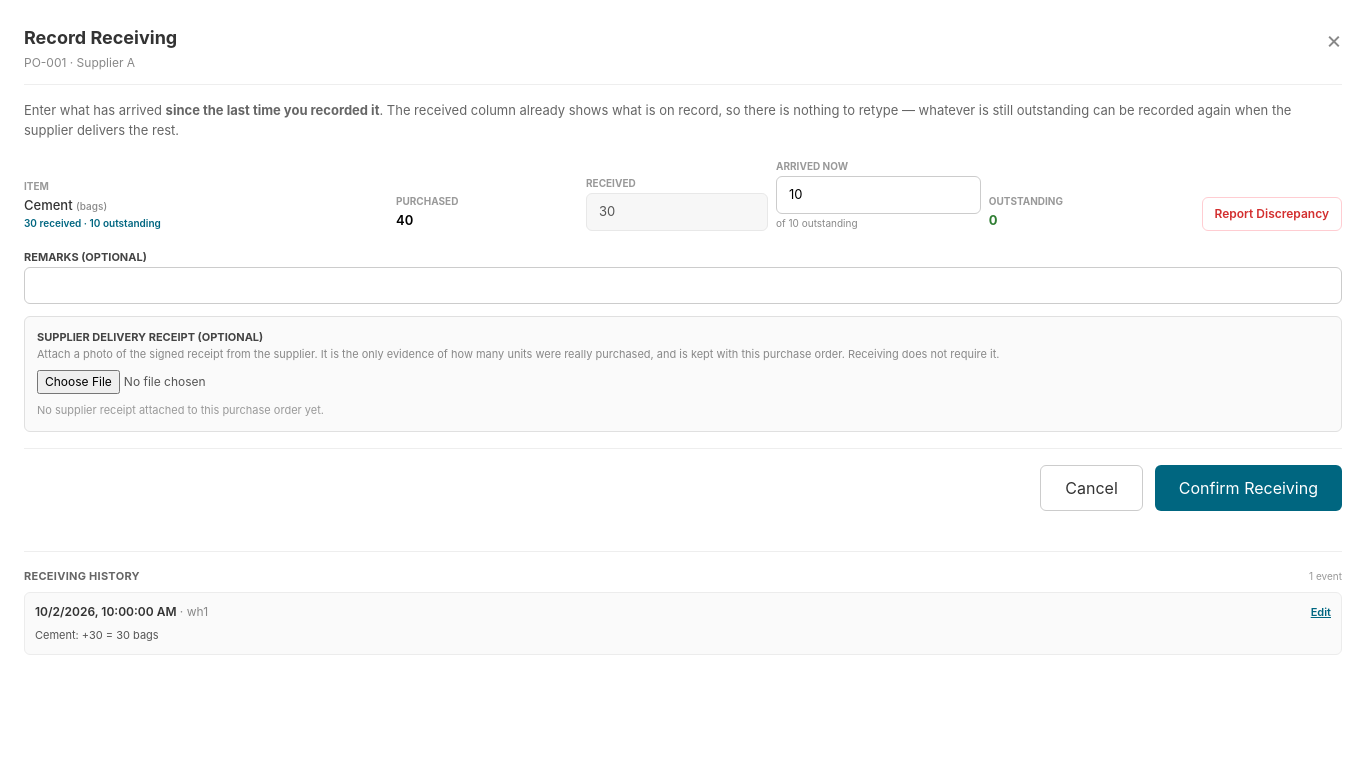
it: correcting the latest event › refuses to save a total below what was already received
Expected: the heading "Record Receiving" is shown, [24,24,177,52]
Click the button "Edit" at x=1321, y=612, box [1311,604,1331,620]
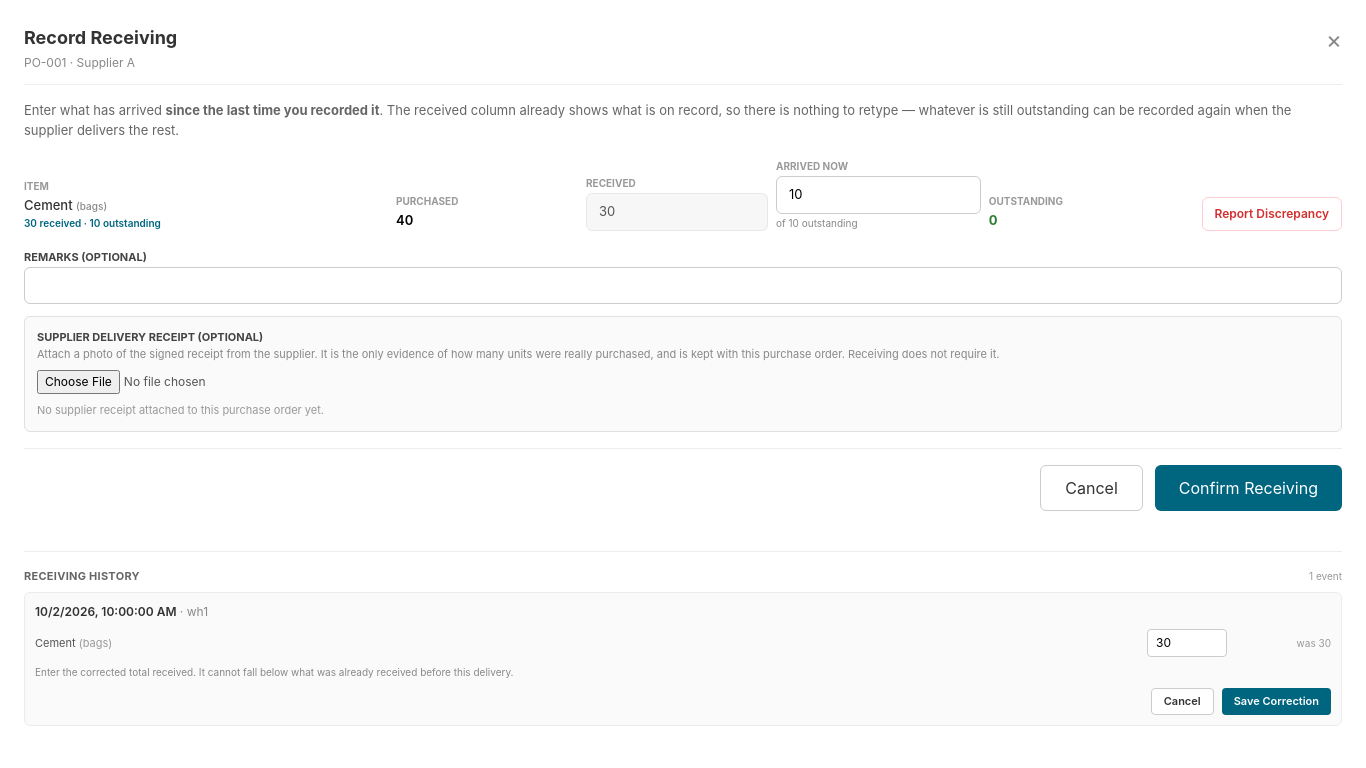
Replace the text in the number field named "Corrected received total for Cement" with "0" at x=1187, y=643, box [1147,629,1227,657]
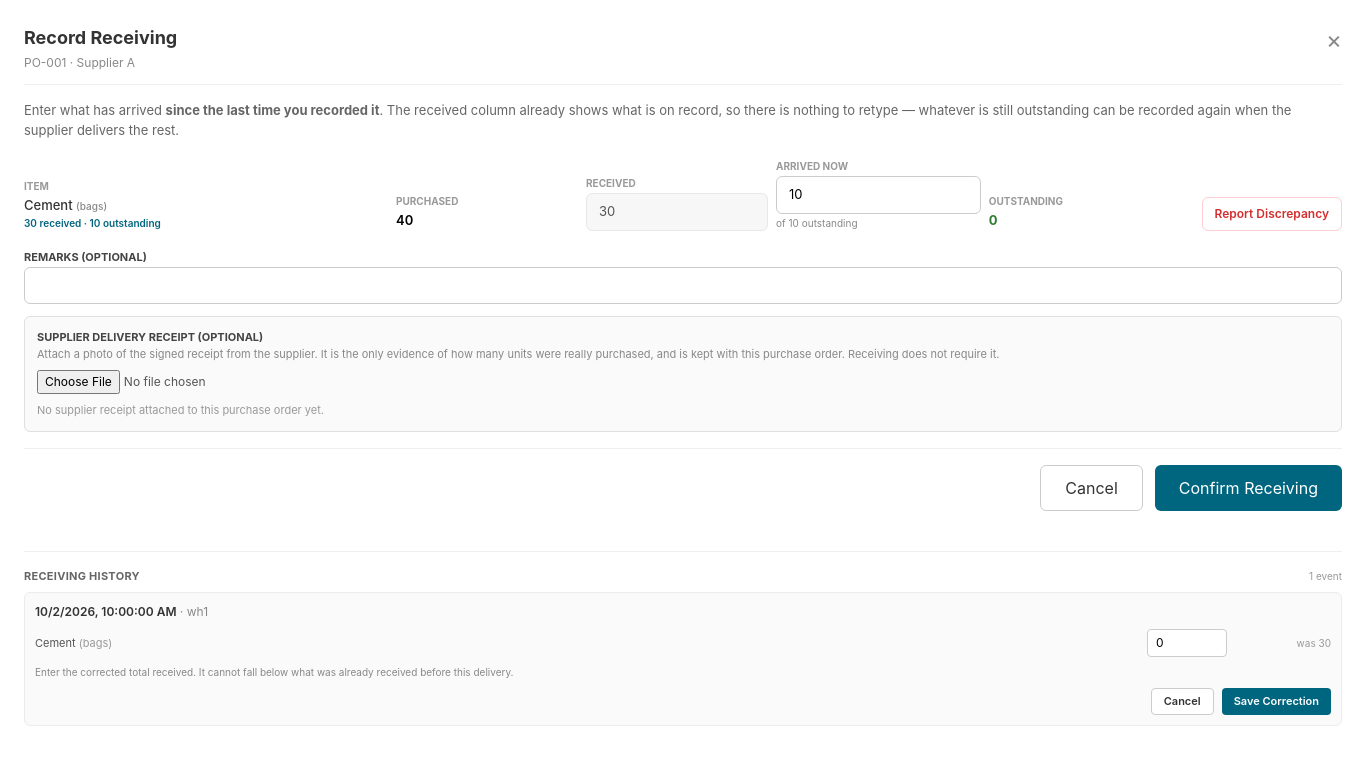
Click the button "Save Correction" at x=1276, y=701, box [1222,688,1331,714]
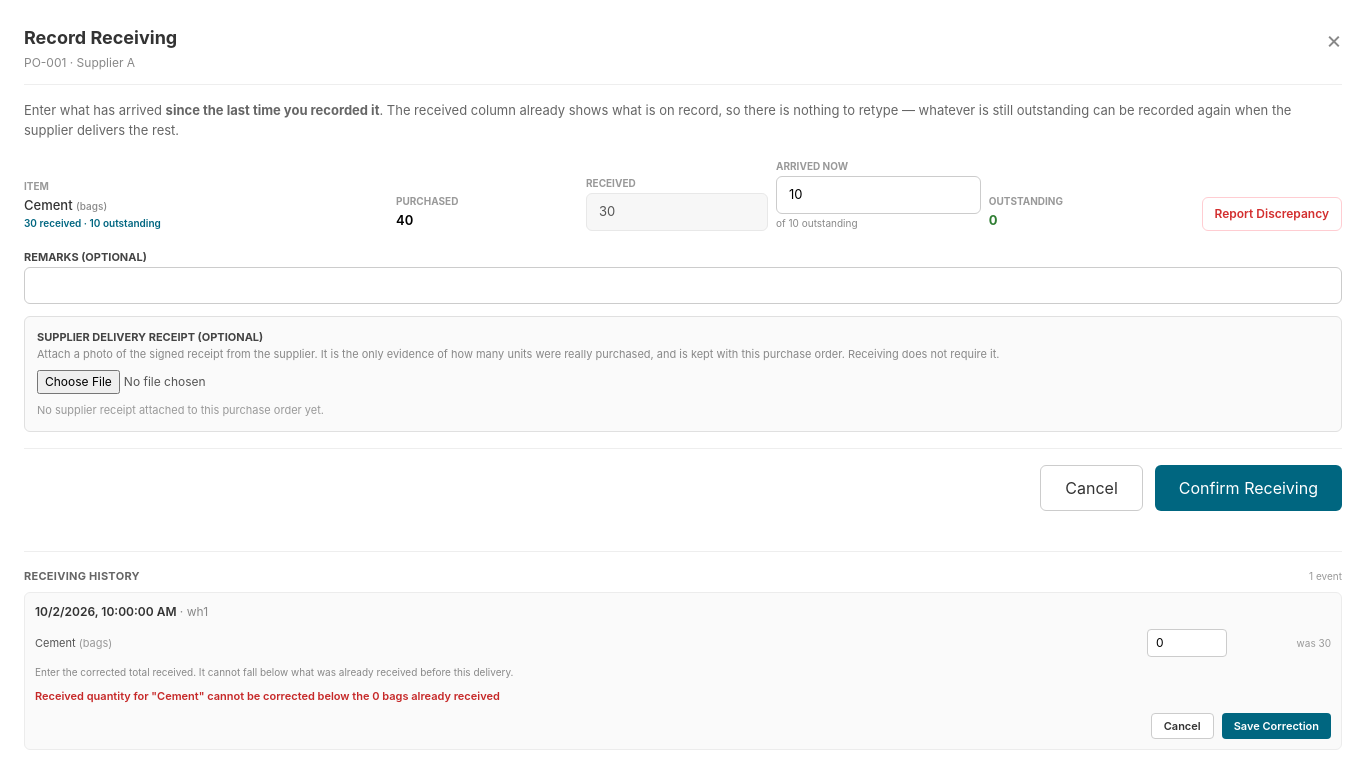
Expected: the text "cannot be corrected below" is shown, [35,689,500,703]
